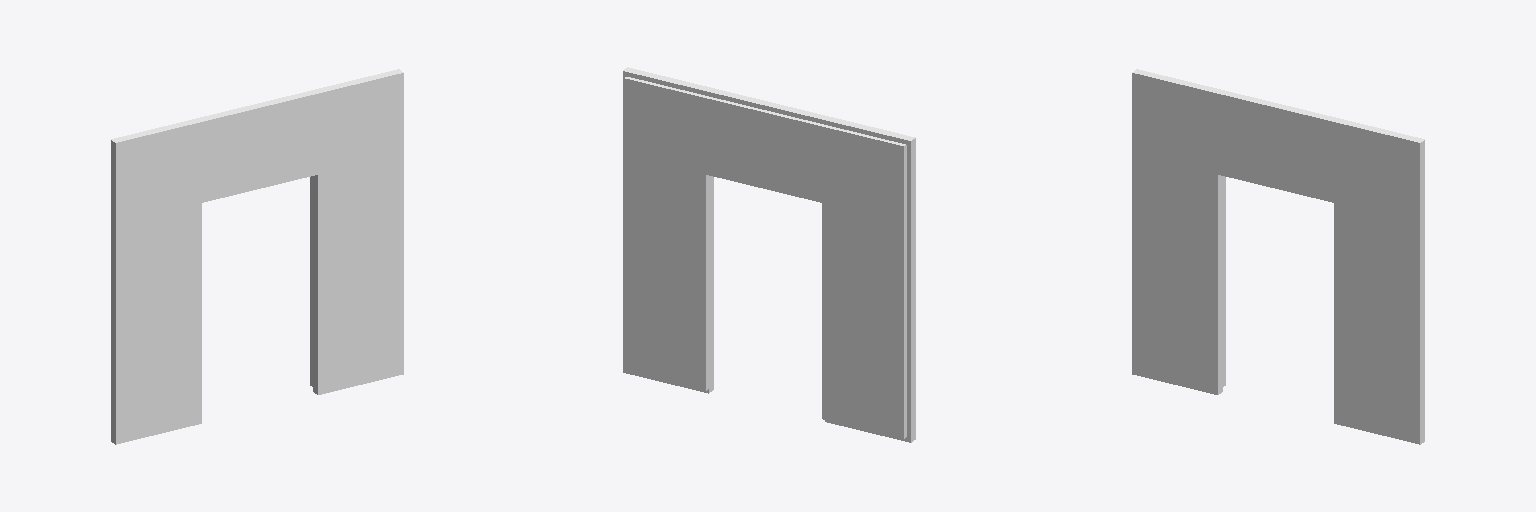
The model's file is dom-2.obj.
The picture shows the model from 3 angles: view 1: azimuth 30°, elevation 25°; view 2: azimuth 150°, elevation 25°; view 3: azimuth 330°, elevation 25°; orthographic projection.
Parts seen in each view (by area): view 1: object 1; view 2: object 1; view 3: object 1.
Boxes of the visible parts, x1=… form: object 1: x1=111, y1=69, x2=403, y2=444; object 1: x1=623, y1=67, x2=915, y2=442; object 1: x1=1132, y1=69, x2=1424, y2=444.
Bounding box in the file's own units: 6.7 × 6.7 × 0.3.